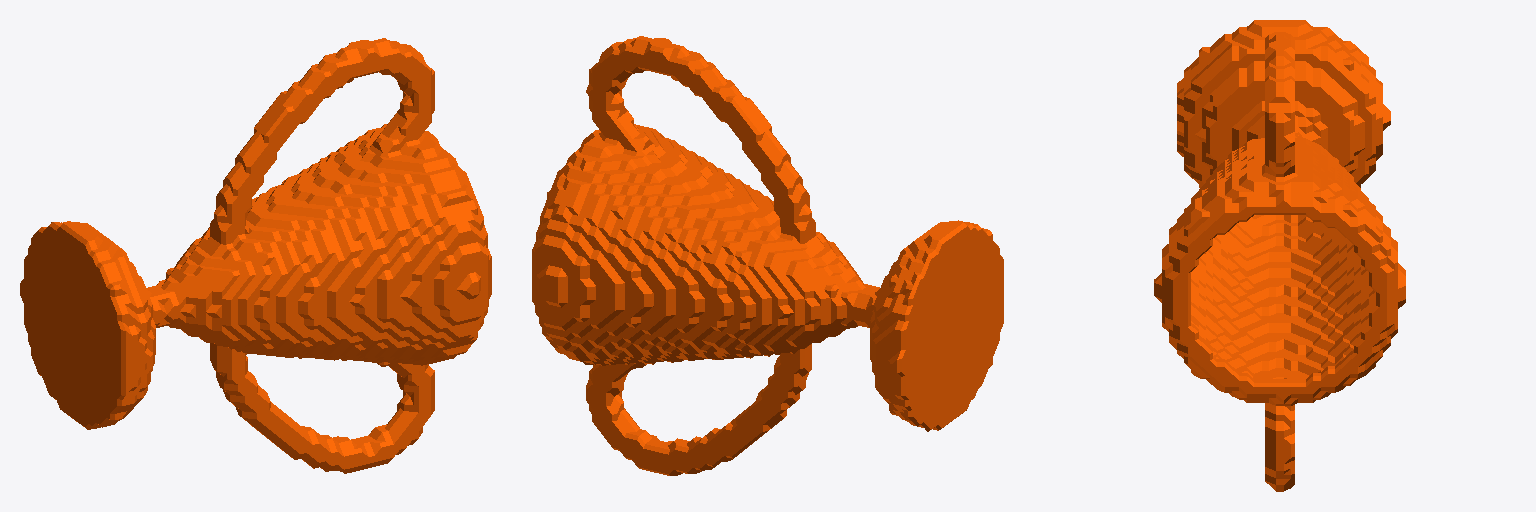
The robot description file, URDF, robot "Wine_glass_body_blue":
<robot name="Wine_glass_body_blue">
   <material name="obj_color">
      <color rgba="1.0 0.423529411765 0.0392156862745 1.0" />
   </material>
   <link name="top">
      <inertial>
         <origin rpy="0.0003329682392344197 0.0008513717318310594 0.0009937540812446459" xyz="-0.022510410832568 -2.462682970945111e-05 4.102564106840867e-05" />
         <mass value="0.24875" />
         <inertia ixx="0.0003329698219935833" ixy="2.264153074626334e-07" ixz="-8.832740067619845e-07" iyy="0.000993753750632598" iyz="1.90111138274425e-07" izz="0.0008513704796839438" />
      </inertial>
      <visual>
         <origin rpy="0 0 0" xyz="0 0 0" />
         <geometry>
            <mesh filename="top_watertight_tiny.stl" scale="1 1 1" />
         </geometry>
         <material name="obj_color" />
      </visual>
      <collision>
         <origin rpy="0 0 0" xyz="0 0 0" />
         <geometry>
            <mesh filename="top_watertight_tiny.obj" scale="1 1 1" />
         </geometry>
      </collision>
   </link>
   <link name="bottom">
      <inertial>
         <origin rpy="1.633333333194242e-08 1.633333333194243e-08 1.633333333357667e-08" xyz="0.3464080000000008 0.3464080000000008 0.3464080000000008" />
         <mass value="0.0009800000000000017" />
         <inertia ixx="1.633333333248717e-08" ixy="5.447480642029219e-19" ixz="5.447480642029219e-19" iyy="1.633333333248717e-08" iyz="5.447480642029219e-19" izz="1.633333333248717e-08" />
      </inertial>
      <visual>
         <origin rpy="0 0 0" xyz="0 0 0" />
         <geometry>
            <mesh filename="bottom_watertight_tiny.stl" scale="1 1 1" />
         </geometry>
         <material name="obj_color" />
      </visual>
   </link>
   <joint name="rotation" type="revolute">
      <origin xyz="0 0 0" />
      <axis xyz="0 0 -1" />
      <parent link="bottom" />
      <child link="top" />
      <dynamics damping="1.0" friction="1.0" />
      <limit effort="0.1" velocity="0.1" lower="0" upper="0.001" />
   </joint>
</robot>

--- Render facts (derived) ---
3 views of the same robot in one strip: view 1: azimuth 30°, elevation 25°; view 2: azimuth 150°, elevation 25°; view 3: azimuth 270°, elevation 25° (orthographic).
Robot: Wine_glass_body_blue — 2 links, 1 joints (1 revolute); root link bottom; default pose: all joints at 0.
Links seen in each view (by area): view 1: top; view 2: top; view 3: top.
Link boxes in pixels (x1,y1,x2,y2): top: (20, 38, 491, 473); top: (532, 36, 1003, 475); top: (1154, 20, 1405, 491).
Bounding box of the posed robot: 0.1576 × 0.0908 × 0.1736 m (x, y, z).
Meshes: 2 distinct files referenced, 1 mesh visuals loaded (1 binary STL); not drawn: 1 (reference not matched to a file when rendering).